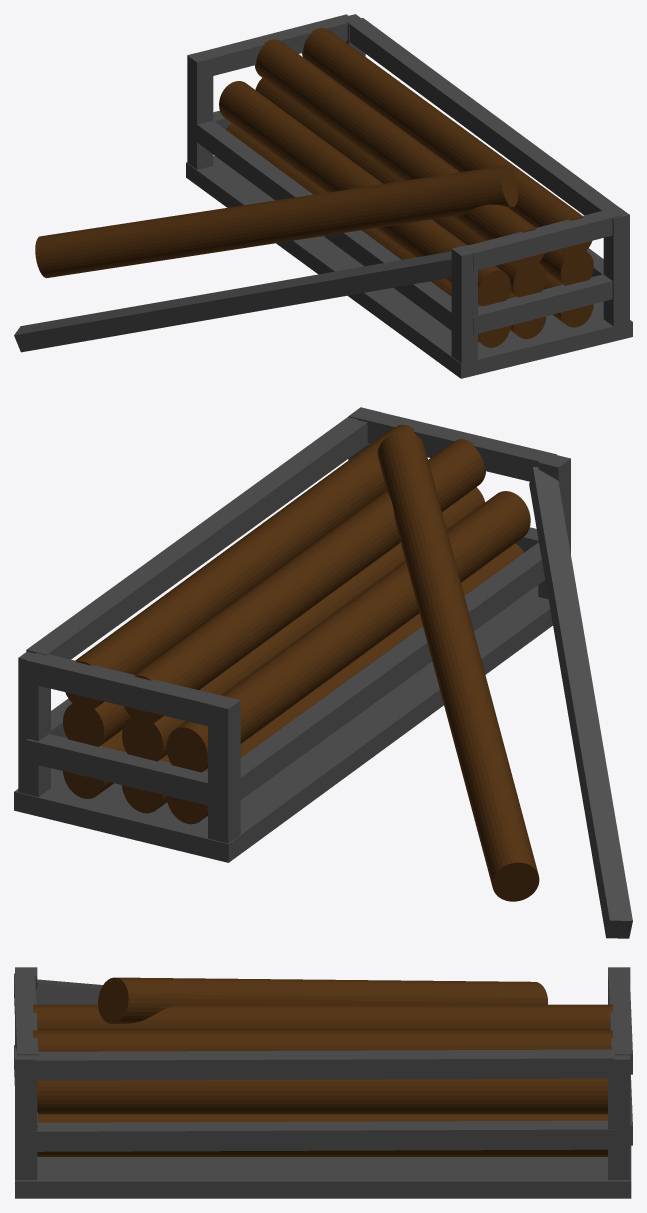
Rendered from Logs.fbx.
The picture shows the model from 3 angles, top to bottom: view 1: azimuth 30°, elevation 25°; view 2: azimuth 150°, elevation 25°; view 3: azimuth 270°, elevation 25°; orthographic projection. The views are drawn at different scales.
Visible parts, largest first — view 1: Cylinder.006, Bed, Corner.004, Cylinder.007, Cylinder.008, Cylinder.005, Corner.007, Corner.005, Cylinder.004, Corner.009, Corner.008, Corner (+7 smaller); view 2: Cylinder.006, Bed, Cylinder.007, Cylinder.005, Cylinder.008, Corner.004, Corner.007, Corner.005, Cylinder.004, Corner.010, Corner.011, Corner.003 (+7 smaller); view 3: Bed, Cylinder.003, Corner.007, Corner.006, Cylinder.007, Cylinder.006, Cylinder.008, Cylinder.002, Corner.001, Corner.002, Corner.010, Corner.009 (+1 smaller).
Part boxes in pixels (x1,y1,x2,y2): Cylinder.006: (35,165,518,278); Bed: (186,155,632,378); Corner.004: (14,251,451,352); Cylinder.007: (255,39,544,267); Cylinder.008: (302,28,592,256); Cylinder.005: (219,81,510,306); Corner.007: (347,18,619,215); Corner.005: (194,120,451,330); Cylinder.004: (255,78,546,297); Corner.009: (464,208,621,271); Corner.008: (473,274,612,334); Corner: (451,245,477,363); Cylinder.006: (377,432,539,901); Bed: (14,585,552,862); Cylinder.007: (124,439,485,724); Cylinder.005: (166,491,530,772); Cylinder.008: (65,424,415,709); Corner.004: (529,467,632,938); Corner.007: (26,417,368,659); Corner.005: (237,542,545,802); Cylinder.004: (122,487,485,761); Corner.010: (26,653,225,725); Corner.011: (26,734,207,805); Corner.003: (208,695,240,843); Bed: (15,1146,631,1198); Cylinder.003: (37,1078,607,1114); Corner.007: (32,1049,614,1080); Corner.006: (32,1120,614,1151); Cylinder.007: (33,1004,612,1030); Cylinder.006: (98,977,548,1023); Cylinder.008: (33,1030,612,1051); Cylinder.002: (37,1114,607,1156); Corner.001: (15,1050,37,1179); Corner.002: (608,1055,630,1179); Corner.010: (608,973,632,1074); Corner.009: (14,973,38,1055).
Size of the model in its own units: 1306 by 638 by 1487.
